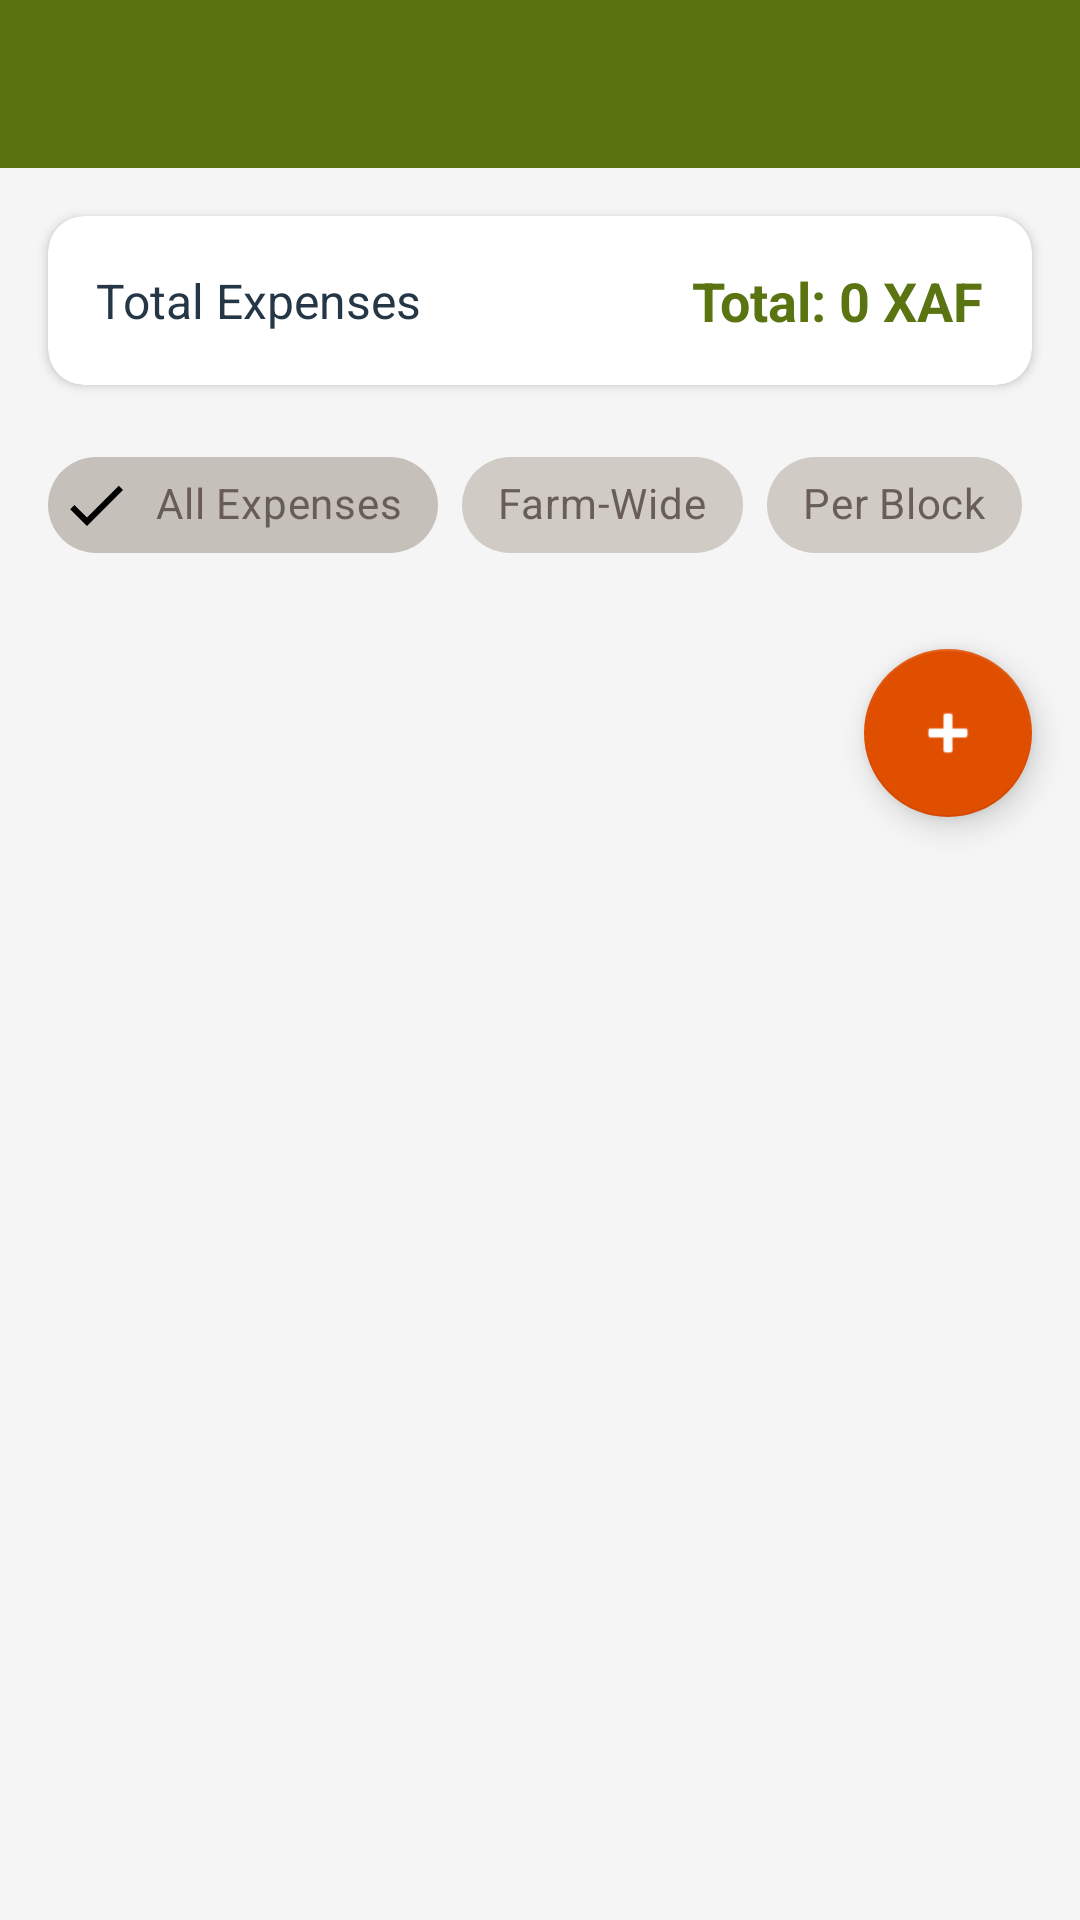

Icons on this 1080px×1920px Android screen, each with its box as box=[x1, y1, x2, y2]:
Add expense: box=[864, 649, 1032, 817]
